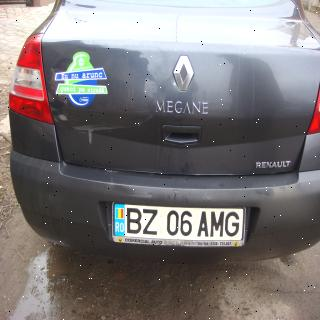license: (111, 202, 248, 248)
